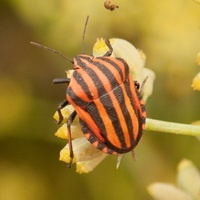insect: (57, 39, 154, 163)
